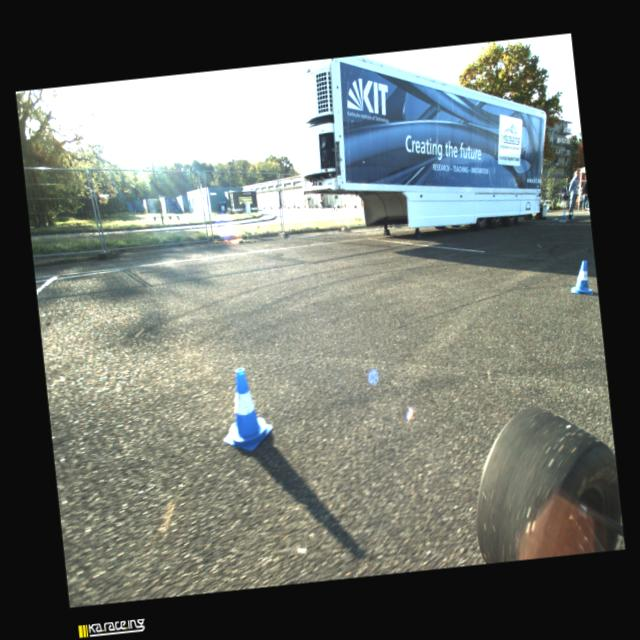blue_cone: (214, 364, 276, 454), (567, 258, 593, 298), (560, 209, 566, 219)
